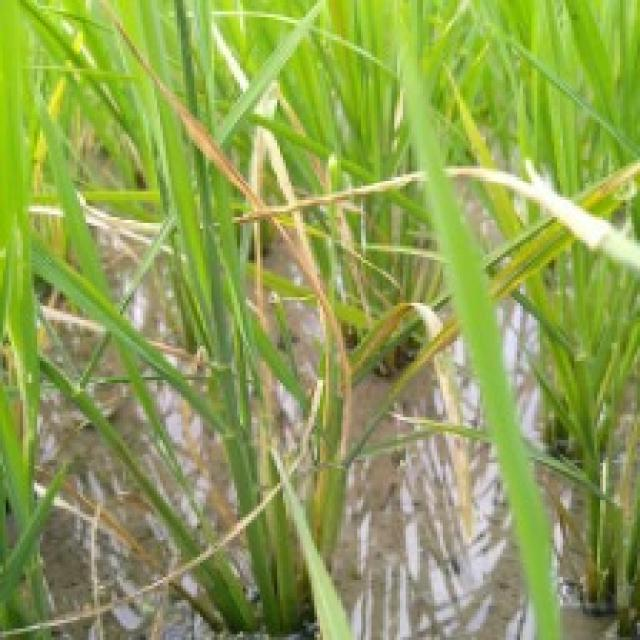Rice___Rice_Blast: (100, 0, 475, 578), (379, 6, 565, 637)
